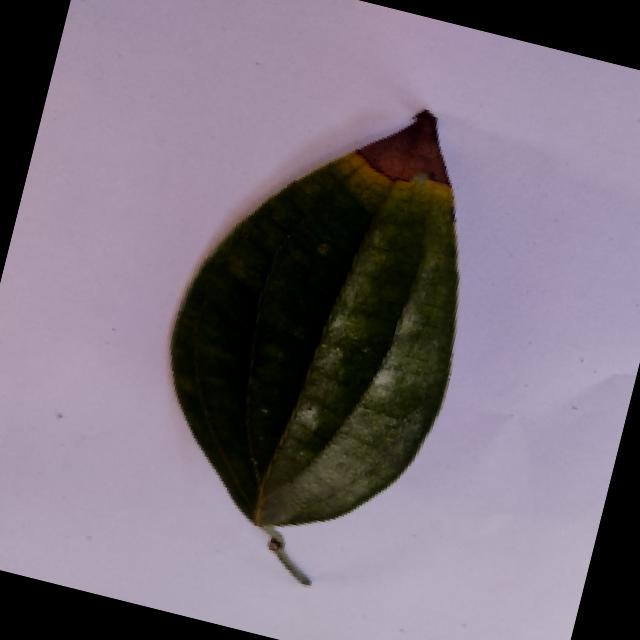footrot: (97, 62, 534, 615)
